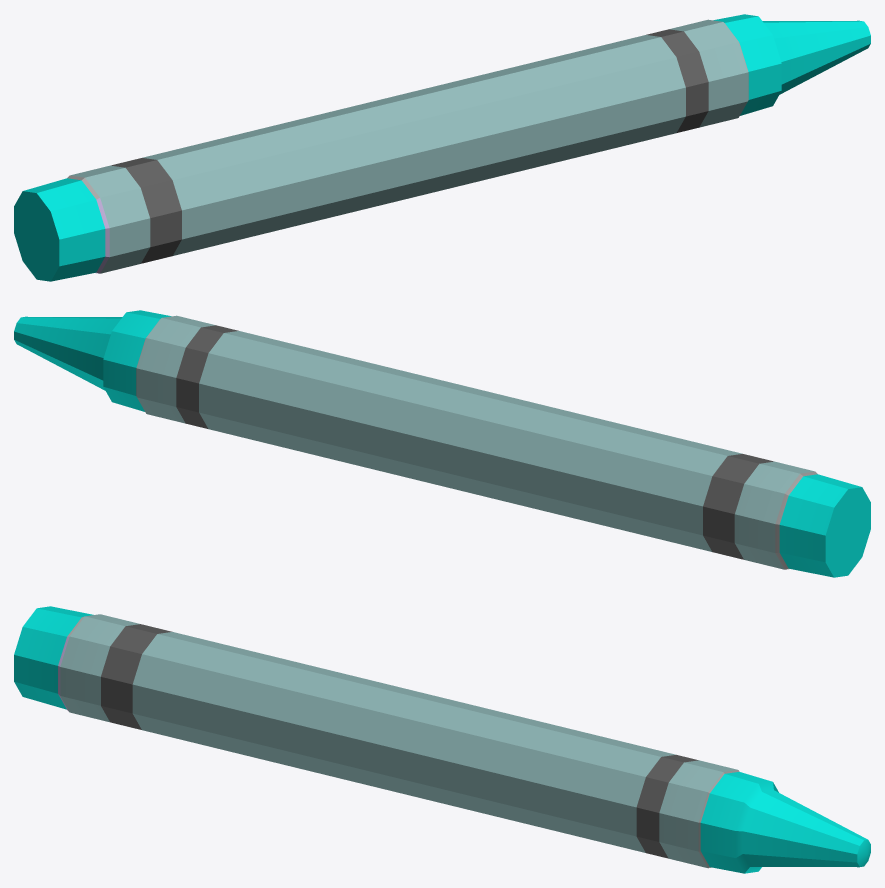
Rendered from Crayon_LightBlue.fbx.
3 views of the same model, one above another, from view 1: azimuth 30°, elevation 25°; view 2: azimuth 150°, elevation 25°; view 3: azimuth 330°, elevation 25° (orthographic).
Visible parts, largest first — view 1: pCylinder10; view 2: pCylinder10; view 3: pCylinder10.
Part boxes in pixels (x1,y1,x2,y2): pCylinder10: (14,14,870,281); pCylinder10: (14,310,870,577); pCylinder10: (14,606,870,873).
Bounding box in the file's own units: 9.4 × 1.02 × 0.9667.
